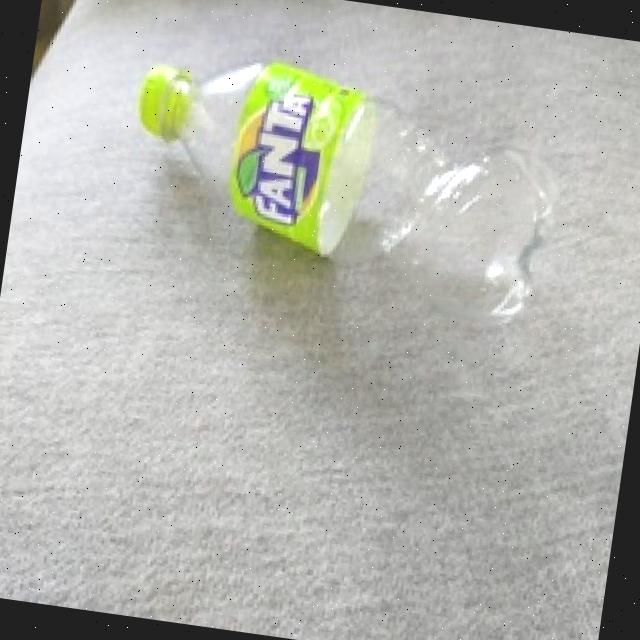bottle: (114, 35, 577, 334)
cap: (132, 46, 198, 144)
label: (229, 52, 374, 272)
